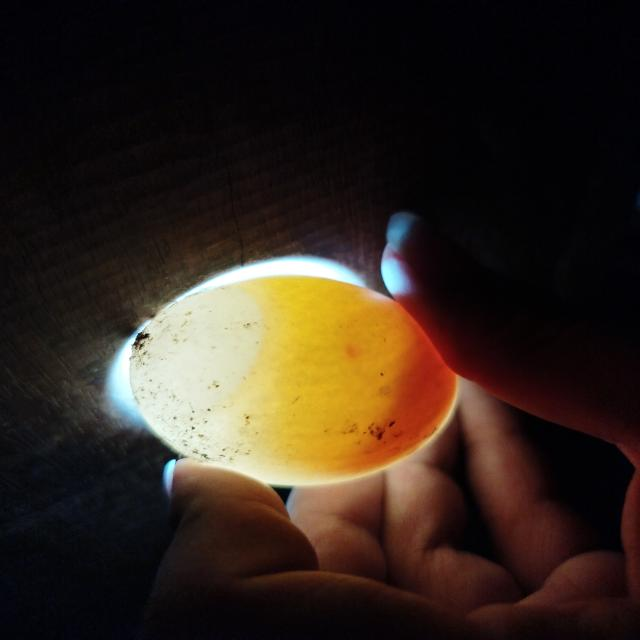Camara de Ar: (129, 284, 263, 407)
Gema Quebrada: (347, 299, 455, 474)
